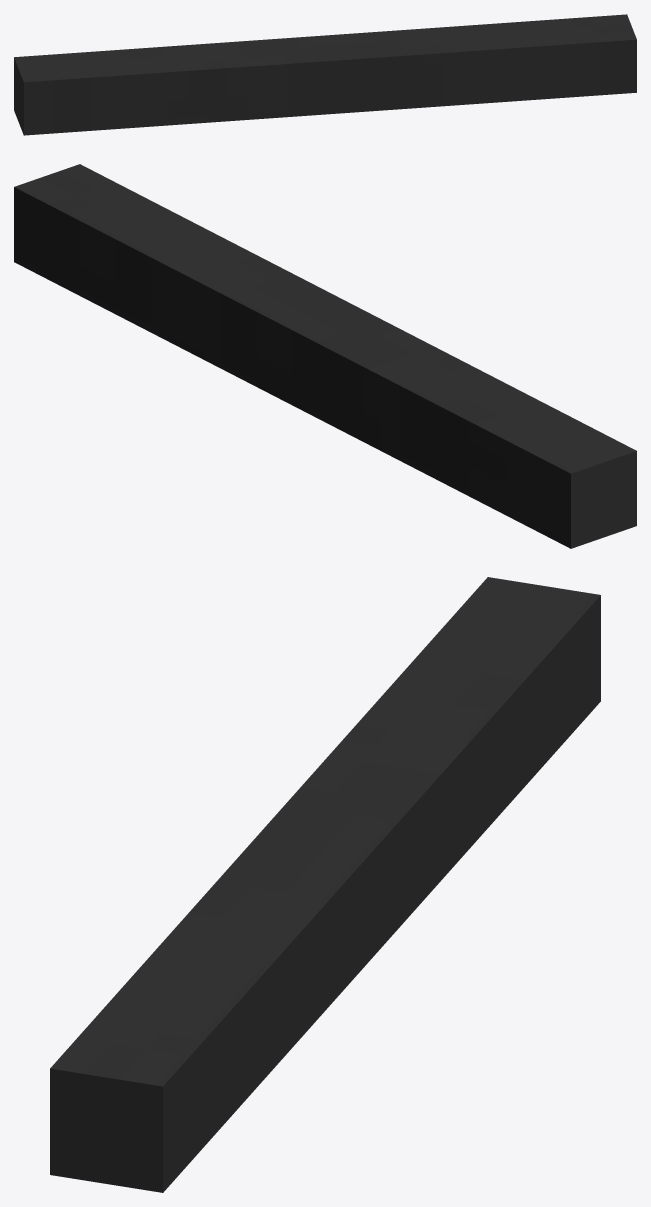
Rendered from frame__incline_ladder_rail.glb.
The picture shows the model from 3 angles, top to bottom: view 1: azimuth 30°, elevation 25°; view 2: azimuth 150°, elevation 25°; view 3: azimuth 270°, elevation 25°; orthographic projection. The views are drawn at different scales.
Parts seen in each view (by area): view 1: world; view 2: world; view 3: world.
Boxes of the visible parts, bbox=[...] form: world: bbox=[14, 14, 636, 135]; world: bbox=[14, 164, 636, 548]; world: bbox=[50, 577, 600, 1192].
Size of the model in its own units: 0.3493 by 0.034 by 0.1596.
Materials: 1 (1 with a texture image).
